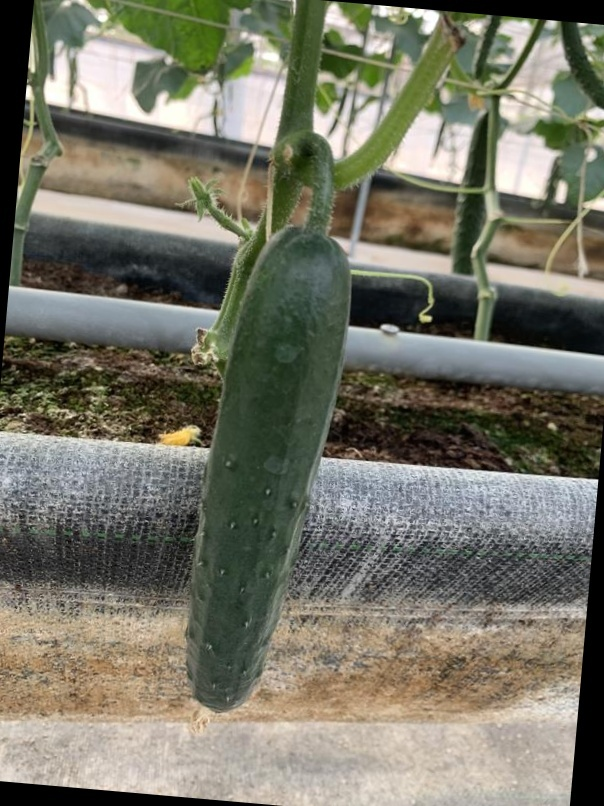mature: (174, 226, 360, 722)
